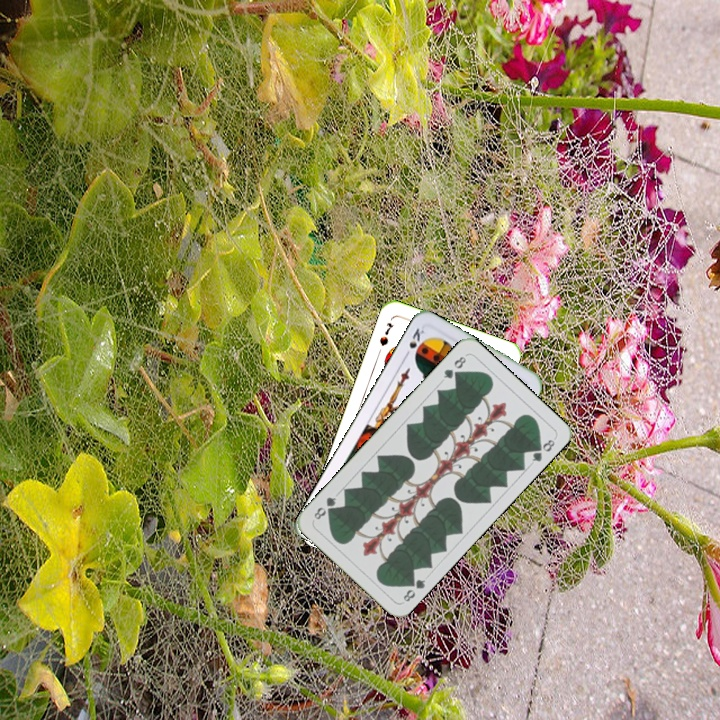G8: (439, 352, 469, 382), (399, 574, 428, 604)
S7: (375, 318, 396, 349)
SK: (400, 324, 427, 361)
